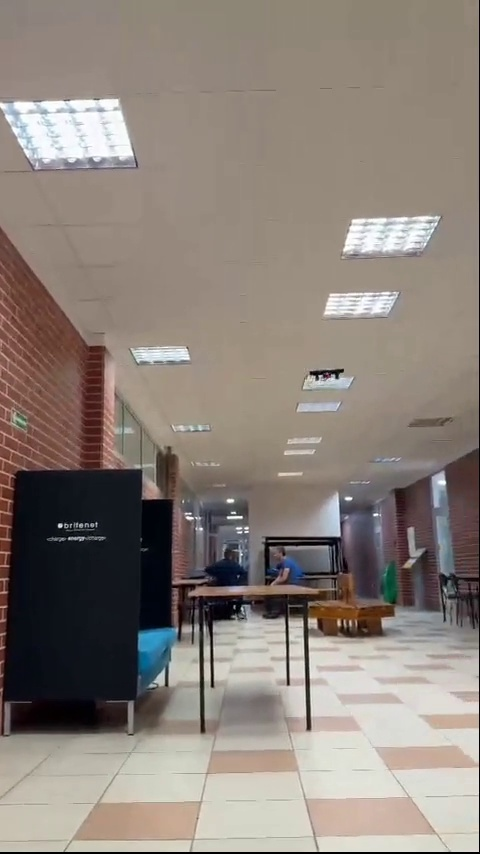drone: (310, 367, 344, 386)
no vest: (204, 542, 245, 587), (267, 545, 307, 580)
